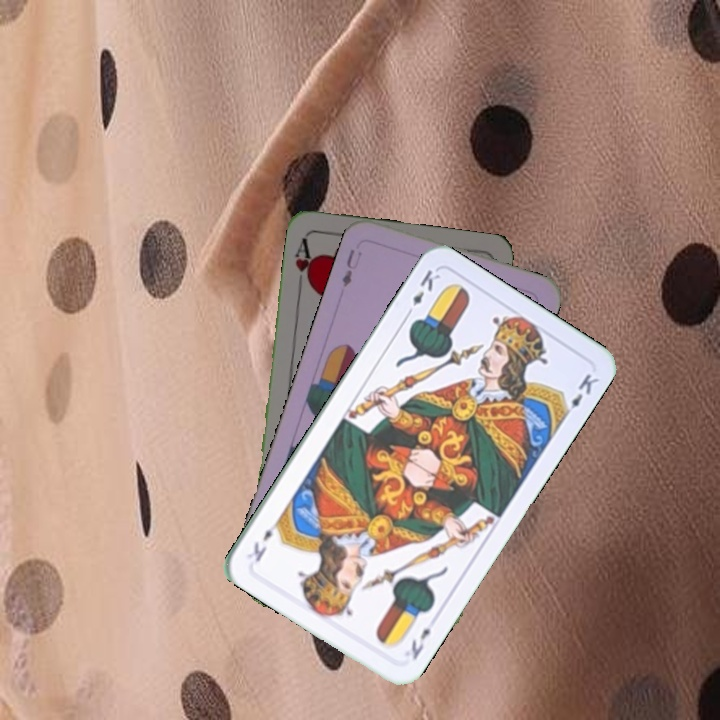EK: (402, 265, 443, 320), (407, 624, 434, 663)
EU: (337, 245, 365, 290)
HA: (291, 234, 317, 292)
